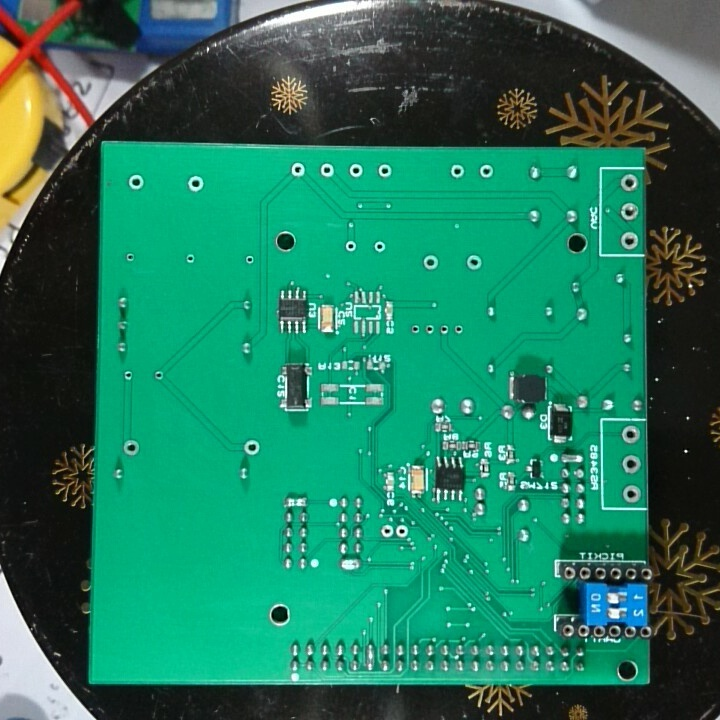F: (185, 172, 207, 197), (618, 229, 641, 252), (119, 437, 144, 458), (620, 483, 643, 505), (241, 435, 263, 458), (619, 200, 640, 224), (621, 454, 642, 477), (620, 424, 641, 446), (618, 172, 639, 193), (421, 252, 441, 273), (126, 172, 147, 192), (464, 253, 483, 273), (377, 522, 395, 541), (477, 163, 497, 180), (376, 162, 393, 182), (448, 163, 466, 181), (289, 161, 307, 178), (347, 163, 365, 179), (394, 523, 409, 540), (372, 238, 385, 256), (452, 323, 467, 338), (319, 163, 334, 178), (121, 368, 136, 383), (121, 250, 137, 264), (344, 238, 357, 255), (408, 323, 422, 338), (241, 253, 256, 267), (150, 369, 165, 383), (437, 323, 450, 338), (184, 251, 197, 266), (424, 323, 436, 338)
P: (362, 641, 377, 673), (282, 495, 311, 509), (559, 450, 584, 466), (339, 558, 363, 574)
